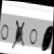correct: (39, 18, 53, 53)
no answer: (0, 20, 9, 42), (28, 26, 38, 45)
not correct: (11, 16, 27, 51)
